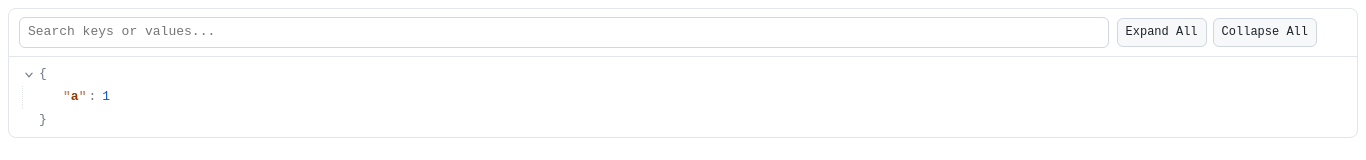
JsonViewer - search › shows no matches for a term not present
The width and height of the screenshot is (1366, 160).
Type "zzz-not-found" into the search field with placeholder "Search keys or values...".
click(564, 32); type("zzz-not-found")  # box [19,17,1109,48]
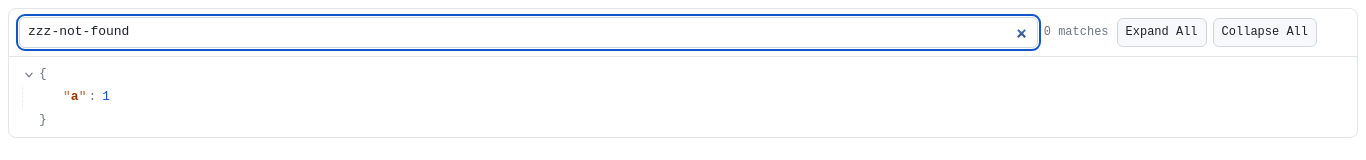
Check: the text "0 matches" is shown, box [1044,23,1108,42]
